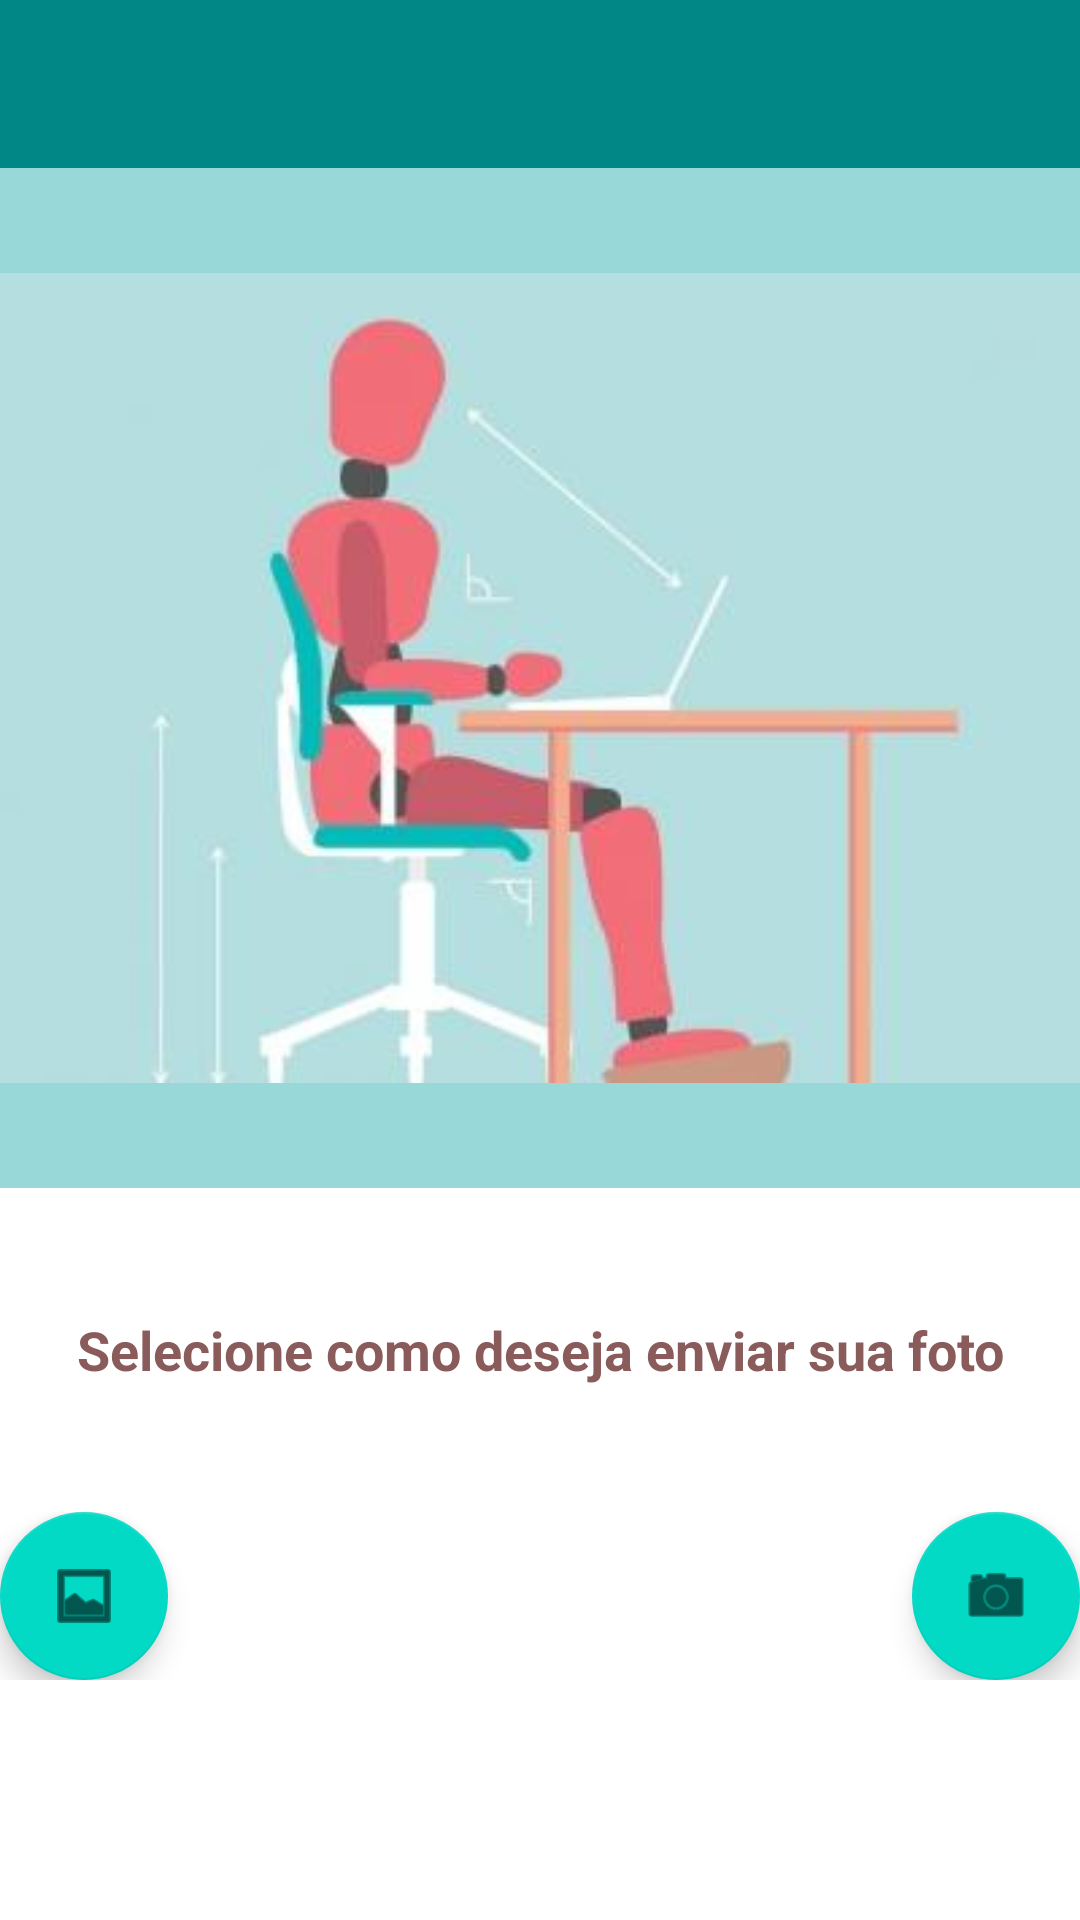

Where to tap for icons on this 1080×1920 app screen, as (x=x, y=y):
camera: (x=996, y=1596)
gallery: (x=84, y=1596)
